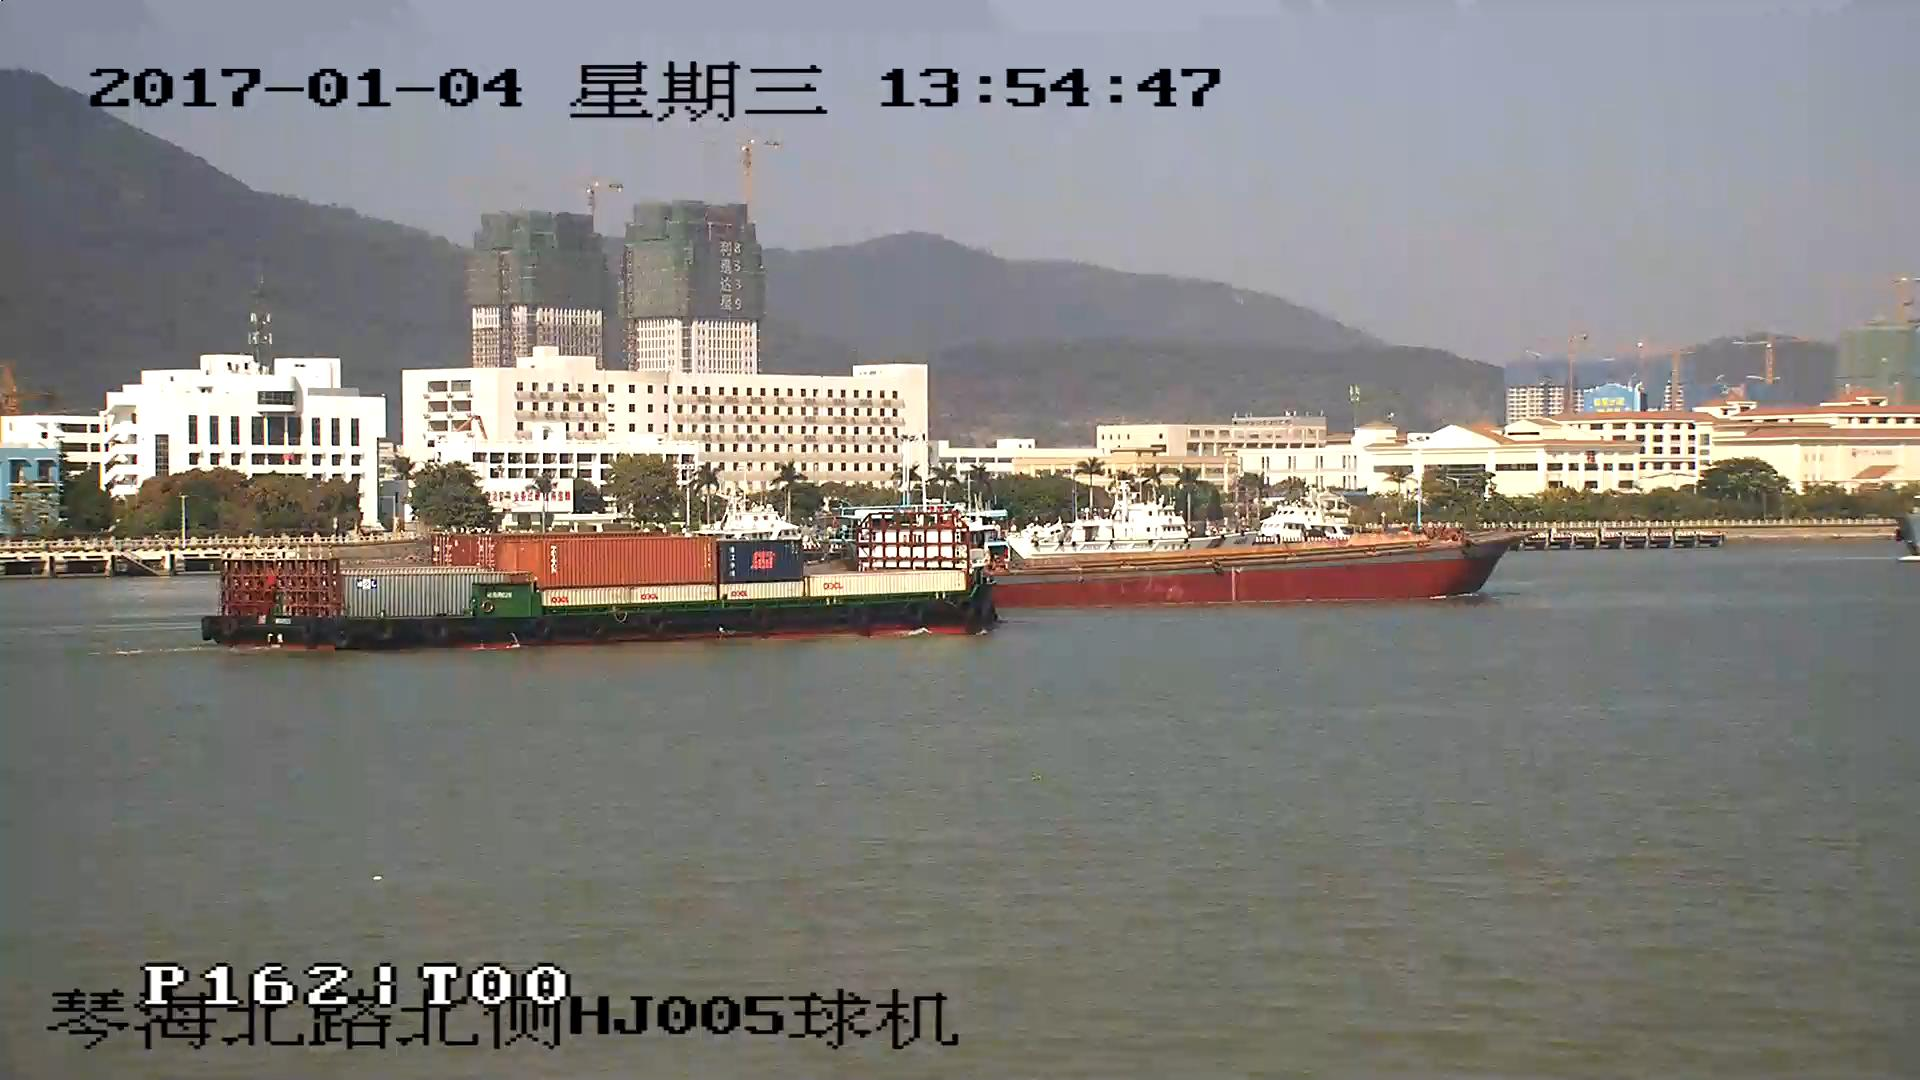bulk cargo carrier: (1014, 529, 1530, 605)
container ship: (203, 512, 1012, 649)
